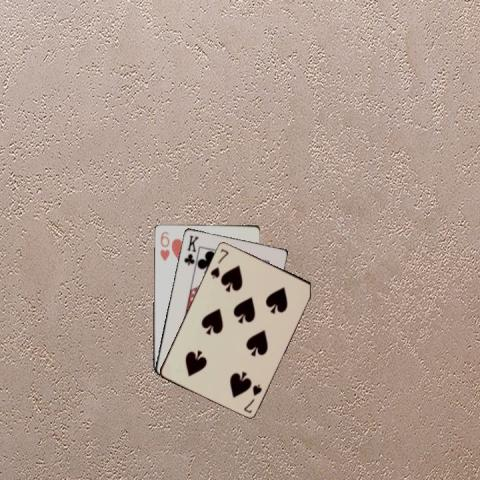6h: (156, 228, 170, 262)
7s: (207, 245, 230, 280), (241, 381, 263, 414)
Kc: (181, 232, 199, 267)
